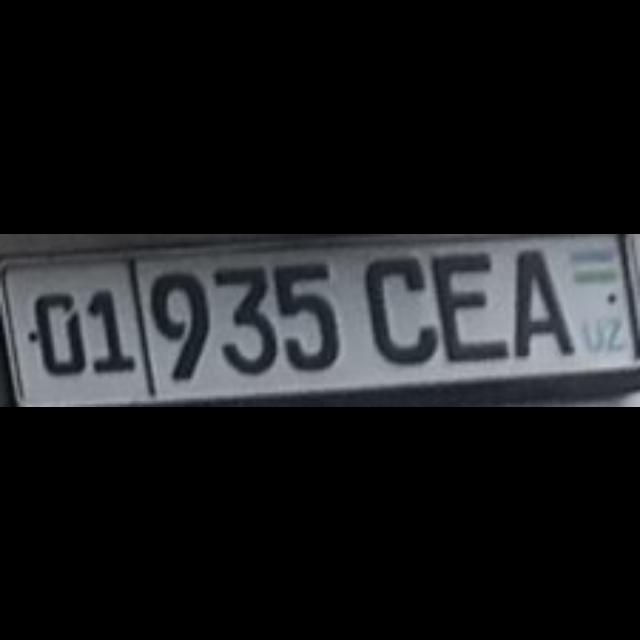0: (32, 287, 82, 369)
1: (83, 284, 131, 370)
3: (208, 258, 272, 372)
5: (270, 259, 336, 367)
9: (144, 267, 208, 378)
A: (509, 244, 569, 356)
C: (361, 253, 435, 361)
E: (426, 248, 504, 358)
